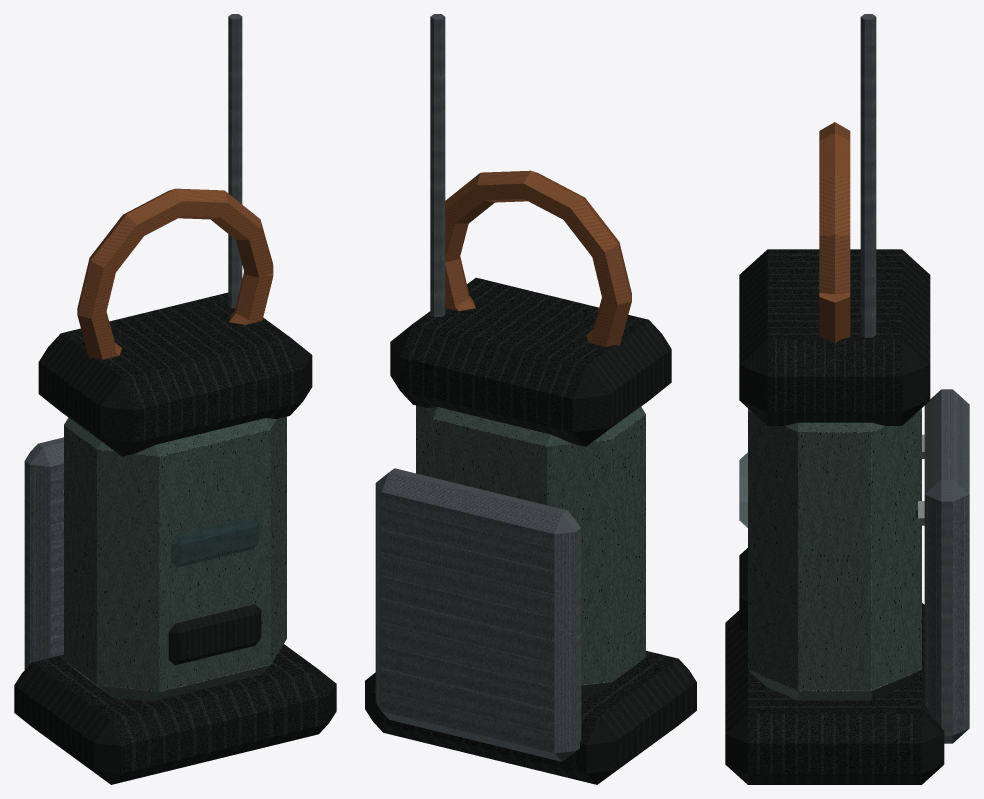
The model's file is blender_emf_array_3_node.glb.
3 renders of one model, left to right at view 1: azimuth 30°, elevation 25°; view 2: azimuth 150°, elevation 25°; view 3: azimuth 270°, elevation 25°, orthographic. The views are drawn at different scales.
Visible parts, largest first — view 1: blender_emf_array_3_node; view 2: blender_emf_array_3_node; view 3: blender_emf_array_3_node.
Boxes of the visible parts, x1,y1,x2,y2 form: blender_emf_array_3_node: (14, 14, 336, 784); blender_emf_array_3_node: (365, 14, 696, 784); blender_emf_array_3_node: (725, 14, 969, 784).
Size of the model in its own units: 0.055 by 0.148 by 0.0435.
6 materials, 6 textured.
